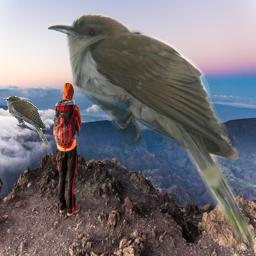Cuckoo: (48, 14, 255, 250), (3, 96, 50, 150)
